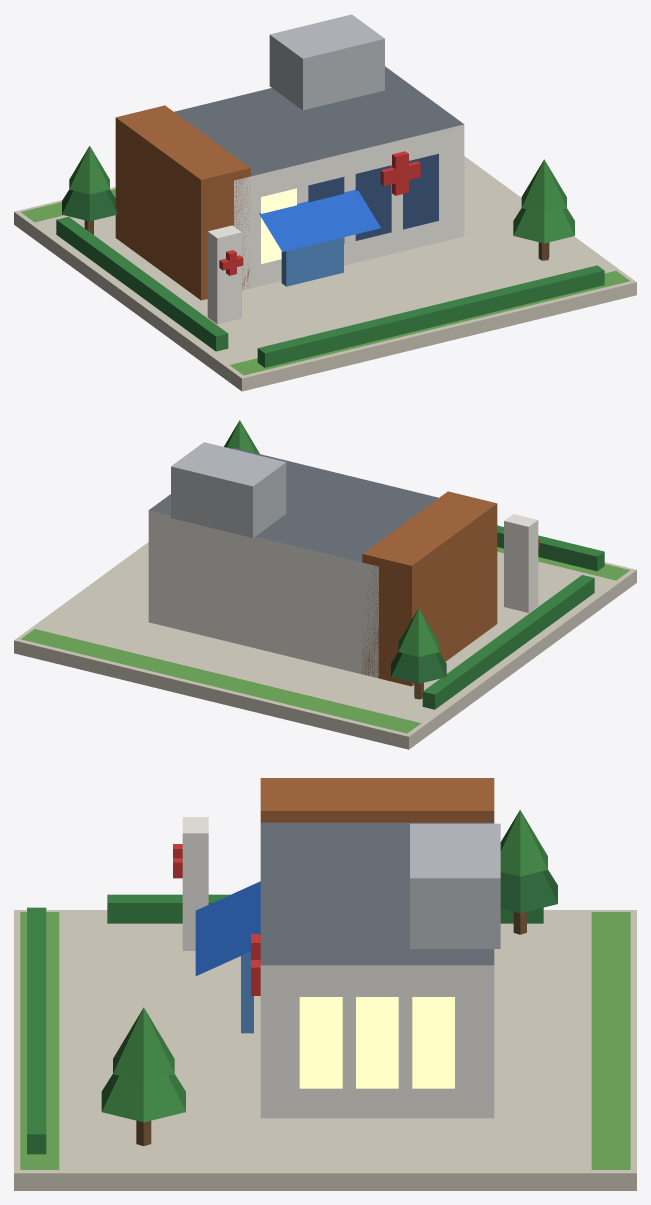
3 views of the same model, one above another, from view 1: azimuth 30°, elevation 25°; view 2: azimuth 150°, elevation 25°; view 3: azimuth 270°, elevation 25° (orthographic). The views are drawn at different scales.
Visible parts, largest first — view 1: b26; view 2: b26; view 3: b26.
Part boxes in pixels (box(x1,y1,x2,y2)): b26: box(14, 14, 636, 391); b26: box(14, 420, 636, 749); b26: box(14, 778, 636, 1190).
Bounding box in the file's own units: 0.96 × 0.41 × 0.96.
